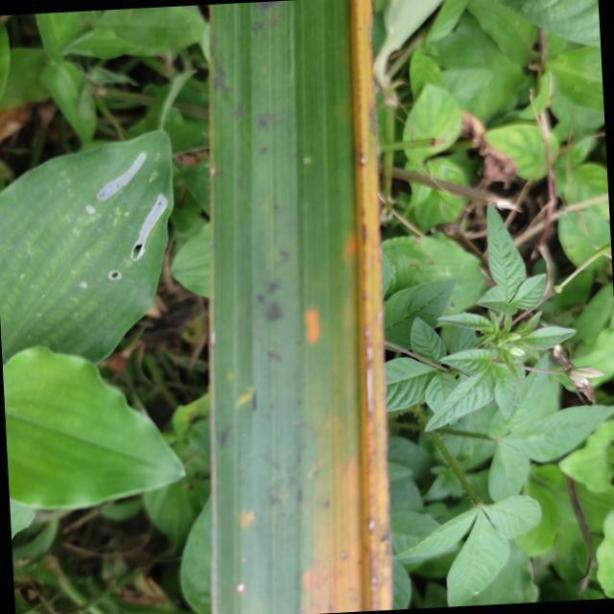Megnesium: (208, 0, 392, 614)
